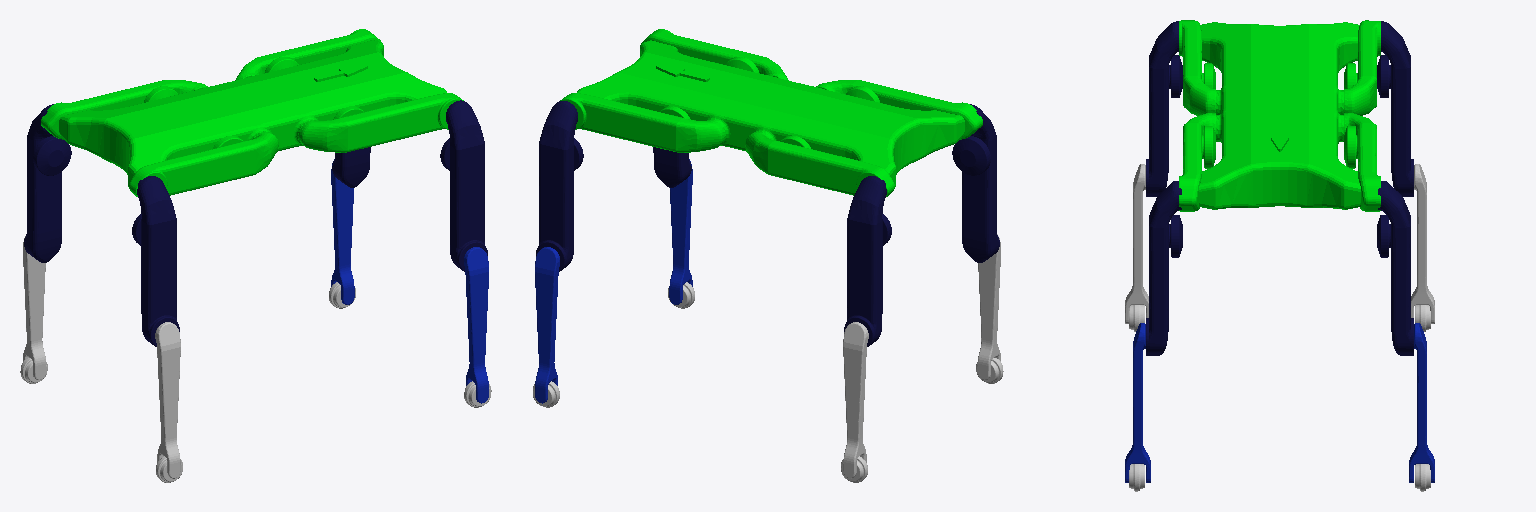
robot.urdf — solo:
<?xml version="1.0" ?>
<!-- =================================================================================== -->
<!-- |    This document was autogenerated by xacro from [local-path]/Documents/raisimLibSolo_workspace/robot_properties_solo/src/robot_properties_solo/resources/xacro/solo8.urdf.xacro | -->
<!-- |    EDITING THIS FILE BY HAND IS NOT RECOMMENDED                                 | -->
<!-- =================================================================================== -->
<robot name="solo" xmlns:controller="http://playerstage.sourceforge.net/gazebo/xmlschema/#controller" xmlns:interface="http://playerstage.sourceforge.net/gazebo/xmlschema/#interface" xmlns:sensor="http://playerstage.sourceforge.net/gazebo/xmlschema/#sensor" xmlns:xacro="http://playerstage.sourceforge.net/gazebo/xmlschema/#interface">
  <!-- This file is based on: https://atlas.is.localnet/confluence/display/AMDW/Quadruped+URDF+Files -->
  <link name="torso">
    <!-- BASE LINK INERTIAL -->
    <!-- body inertia updated according to 17.8.2022 PDF (yuni) -->
    <inertial>
      <origin rpy="0 0 0" xyz="-0.00012331 0.00031510 -0.00026969"/>
      <mass value="1.02195485"/>
      <inertia ixx="0.00533767" ixy="-0.00000516" ixz="0.00000122" iyy="0.01314118" iyz="0.00000061" izz="0.01821833"/>
    </inertial>
    <!-- BASE LINK VISUAL -->
    <visual>
      <origin rpy="0 0 0" xyz="0 0 0"/>
      <geometry>
        <mesh filename="./meshes/solo_body.dae"/>
      </geometry>
      <material name="ftorso_mat">
        <color rgba="0.0 0.9 0.1 1"/>
      </material>
    </visual>
    <!-- BASE LINK COLLISION -->
    <collision>
      <origin rpy="0 0 0" xyz="0 0 0"/>
      <geometry>
        <!-- body collision approximated as a box -->
        <box size="0.421 0.201 0.042"/>
      </geometry>
      <material name="grey">
        <color rgba="0.8 0.8 0.8 1.0"/>
      </material>
    </collision>
    <!-- Bullet specific paramters -->
  </link>
  <!-- END BASE LINK -->
  <!-- Joint between the base and the ${prefix} upper leg -->
  <joint name="FL_HFE" type="revolute">
    <parent link="torso"/>
    <child link="FL_UPPER_LEG"/>
    <limit effort="1.5" lower="-10" upper="10" velocity="15"/>
    <!-- joints rotates around the y-axis -->
    <axis xyz="0 1 0"/>
    <origin rpy="0 0 0" xyz="0.1946 0.1015 0"/>
    <!-- pybullet simulation parameters -->
    <!-- added rotor inertia as 81*0.00000447 (yuni) -->
    <dynamics damping="0.0" friction="0.0" rotor_inertia="0.00036207"/>
  </joint>
  <link name="FL_UPPER_LEG">
    <!-- Left upper leg inertia -->
    <inertial>
      <mass value="0.14737324"/>
      <origin rpy="0 0 0" xyz="0.00001530 0.01767640 -0.07838230"/>
      <inertia ixx="0.00041540" ixy="0.00000000" ixz="0.00000010" iyy="0.00041637" iyz="-0.00004589" izz="0.00002982"/>
    </inertial>
    <!-- UPPER LEG LINK VISUAL -->
    <visual>
      <origin rpy="0 0 0" xyz="0 0 0"/>
      <geometry>
        <mesh filename="./meshes/solo_upper_leg_left_side.dae"/>
      </geometry>
      <material name="fthigh_mat">
        <color rgba="0.1 0.1 0.3 1"/>
      </material>
    </visual>
    <!-- UPPER LEG LINK COLLISION -->
    <collision>
      <origin rpy="0 0 0" xyz="0 0.037450000000000004 -0.16"/>
      <geometry>
        <!-- sphere radius taken from shell radius in CAD files-->
        <sphere radius="0.0185"/>
      </geometry>
      <material name="grey">
        <color rgba="0.8 0.8 0.8 1.0"/>
      </material>
    </collision>
    <!-- Bullet specific paramters -->
  </link>
  <!-- END UPPER LEG LINK -->
  <!-- KFE: Joint between the upper leg and the lower leg -->
  <joint name="FL_KFE" type="revolute">
    <parent link="FL_UPPER_LEG"/>
    <child link="FL_LOWER_LEG"/>
    <limit effort="1.5" lower="-10" upper="10" velocity="15"/>
    <!-- joints rotates around the y-axis -->
    <axis xyz="0 1 0"/>
    <origin rpy="0 0 0" xyz="0 0.037450000000000004 -0.16"/>
    <!-- pybullet simulation parameters -->
    <!-- added rotor inertia as 81*0.00000447 (yuni) -->
    <dynamics damping="0.0" friction="0.0" rotor_inertia="0.00036207"/>
  </joint>
  <link name="FL_LOWER_LEG">
    <!-- Left lower leg inertia -->
    <inertial>
      <mass value="0.02318294"/>
      <origin rpy="0 0 0" xyz="0.00000000 0.00776716 -0.07003876"/>
      <inertia ixx="0.00008508" ixy="0.00000000" ixz="0.00000000" iyy="0.00008580" iyz="-0.00000200" izz="0.00000139"/>
    </inertial>
    <!-- LOWER LEG LINK VISUAL -->
    <visual>
      <origin rpy="0 0 0" xyz="0 0 0"/>
      <geometry>
        <mesh filename="./meshes/solo_lower_leg_left_side.dae"/>
      </geometry>
      <material name="fshin_mat">
        <color rgba="0.1 0.2 0.7 0.4"/>
      </material>
    </visual>
    <!-- LOWER LEG LINK COLLISION -->
    <!-- turn off lower leg link collision to instead have sphere at foot (yuni) -->
    <!-- Bullet specific paramters -->
  </link>
  <!-- END LOWER LEG LINK -->
  <!-- KFE: Joint between the upper leg and the lower leg -->
  <joint name="FL_ANKLE" type="fixed" dont_collapse="true">
    <parent link="FL_LOWER_LEG"/>
    <child link="FL_FOOT"/>
    <origin rpy="0 0 0" xyz="0 0.009000000000000001 -0.16"/>
    <!-- pybullet simulation parameters -->
    <dynamics damping="0.0" friction="0.0"/>
  </joint>
  <link name="FL_FOOT">
    <!-- FOOT INERTIAL -->
    <inertial>
      <origin rpy="0 0 0" xyz="0 0 0.00035767"/>
      <mass value="0.00693606"/>
      <inertia ixx="0.00000057" ixy="0.0" ixz="0.0" iyy="0.00000084" iyz="0.0" izz="0.00000053"/>
    </inertial>
    <!-- FOOT VISUAL -->
    <visual>
      <origin rpy="0 0 0" xyz="0 0 0"/>
      <geometry>
        <mesh filename="./meshes/solo_foot.dae"/>
      </geometry>
      <material name="grey">
        <color rgba="0.8 0.8 0.8 1.0"/>
      </material>
    </visual>
    <!-- FOOT COLLISION -->
    <!-- add collision in foot as a sphere (yuni) -->
    <collision>
      <origin rpy="0 0 0" xyz="0 0 0"/>
      <geometry>
        <!-- sphere radius taken from rubber radius in CAD files-->
        <sphere radius="0.0159"/>
      </geometry>
      <material name="grey">
        <color rgba="0.8 0.8 0.8 1.0"/>
      </material>
    </collision>
  </link>
  <!-- END FOOT LINK -->
  <!-- Joint between the base and the ${prefix} upper leg -->
  <joint name="FR_HFE" type="revolute">
    <parent link="torso"/>
    <child link="FR_UPPER_LEG"/>
    <limit effort="1.5" lower="-10" upper="10" velocity="15"/>
    <!-- joints rotates around the y-axis -->
    <axis xyz="0 1 0"/>
    <origin rpy="0 0 0" xyz="0.1946 -0.1015 0"/>
    <!-- pybullet simulation parameters -->
    <!-- added rotor inertia as 81*0.00000447 (yuni) -->
    <dynamics damping="0.0" friction="0.0" rotor_inertia="0.00036207"/>
  </joint>
  <link name="FR_UPPER_LEG">
    <!-- Right upper leg inertia -->
    <inertial>
      <mass value="0.14737324"/>
      <origin rpy="0 0 0" xyz="-0.00001530 -0.01767640 -0.07838230"/>
      <inertia ixx="0.00041540" ixy="0.00000000" ixz="-0.00000010" iyy="0.00041637" iyz="0.00004589" izz="0.00002982"/>
    </inertial>
    <!-- UPPER LEG LINK VISUAL -->
    <visual>
      <origin rpy="0 0 0" xyz="0 0 0"/>
      <geometry>
        <mesh filename="./meshes/solo_upper_leg_right_side.dae"/>
      </geometry>
      <material name="fthigh_mat">
        <color rgba="0.1 0.1 0.3 1"/>
      </material>
    </visual>
    <!-- UPPER LEG LINK COLLISION -->
    <collision>
      <origin rpy="0 0 0" xyz="0 -0.037450000000000004 -0.16"/>
      <geometry>
        <!-- sphere radius taken from shell radius in CAD files-->
        <sphere radius="0.0185"/>
      </geometry>
      <material name="grey">
        <color rgba="0.8 0.8 0.8 1.0"/>
      </material>
    </collision>
    <!-- Bullet specific paramters -->
  </link>
  <!-- END UPPER LEG LINK -->
  <!-- KFE: Joint between the upper leg and the lower leg -->
  <joint name="FR_KFE" type="revolute">
    <parent link="FR_UPPER_LEG"/>
    <child link="FR_LOWER_LEG"/>
    <limit effort="1.5" lower="-10" upper="10" velocity="15"/>
    <!-- joints rotates around the y-axis -->
    <axis xyz="0 1 0"/>
    <origin rpy="0 0 0" xyz="0 -0.037450000000000004 -0.16"/>
    <!-- pybullet simulation parameters -->
    <!-- added rotor inertia as 81*0.00000447 (yuni) -->
    <dynamics damping="0.0" friction="0.0" rotor_inertia="0.00036207"/>
  </joint>
  <link name="FR_LOWER_LEG">
    <!-- Right lower leg inertia -->
    <inertial>
      <mass value="0.02318294"/>
      <origin rpy="0 0 0" xyz="0.00000000 -0.00776716 -0.07003876"/>
      <inertia ixx="0.00008508" ixy="0.00000000" ixz="0.00000000" iyy="0.00008580" iyz="0.00000200" izz="0.00000139"/>
    </inertial>
    <!-- LOWER LEG LINK VISUAL -->
    <visual>
      <origin rpy="0 0 0" xyz="0 0 0"/>
      <geometry>
        <mesh filename="./meshes/solo_lower_leg_right_side.dae"/>
      </geometry>
      <material name="fshin_mat">
        <color rgba="0.1 0.2 0.7 0.4"/>
      </material>
    </visual>
    <!-- LOWER LEG LINK COLLISION -->
    <!-- turn off lower leg link collision to instead have sphere at foot (yuni) -->
    <!-- Bullet specific paramters -->
  </link>
  <!-- END LOWER LEG LINK -->
  <!-- KFE: Joint between the upper leg and the lower leg -->
  <joint name="FR_ANKLE" type="fixed" dont_collapse="true">
    <parent link="FR_LOWER_LEG"/>
    <child link="FR_FOOT"/>
    <origin rpy="0 0 0" xyz="0 -0.009000000000000001 -0.16"/>
    <!-- pybullet simulation parameters -->
    <dynamics damping="0.0" friction="0.0"/>
  </joint>
  <link name="FR_FOOT">
    <!-- FOOT INERTIAL -->
    <inertial>
      <origin rpy="0 0 0" xyz="0 0 0.00035767"/>
      <mass value="0.00693606"/>
      <inertia ixx="0.00000057" ixy="0.0" ixz="0.0" iyy="0.00000084" iyz="0.0" izz="0.00000053"/>
    </inertial>
    <!-- FOOT VISUAL -->
    <visual>
      <origin rpy="0 0 0" xyz="0 0 0"/>
      <geometry>
        <mesh filename="./meshes/solo_foot.dae"/>
      </geometry>
      <material name="grey">
        <color rgba="0.8 0.8 0.8 1.0"/>
      </material>
    </visual>
    <!-- FOOT COLLISION -->
    <!-- add collision in foot as a sphere (yuni) -->
    <collision>
      <origin rpy="0 0 0" xyz="0 0 0"/>
      <geometry>
        <!-- sphere radius taken from rubber radius in CAD files-->
        <sphere radius="0.0159"/>
      </geometry>
      <material name="grey">
        <color rgba="0.8 0.8 0.8 1.0"/>
      </material>
    </collision>
  </link>
  <!-- END FOOT LINK -->
  <!-- Joint between the base and the ${prefix} upper leg -->
  <joint name="HL_HFE" type="revolute">
    <parent link="torso"/>
    <child link="HL_UPPER_LEG"/>
    <limit effort="1.5" lower="-10" upper="10" velocity="15"/>
    <!-- joints rotates around the y-axis -->
    <axis xyz="0 1 0"/>
    <origin rpy="0 0 0" xyz="-0.1946 0.1015 0"/>
    <!-- pybullet simulation parameters -->
    <!-- added rotor inertia as 81*0.00000447 (yuni) -->
    <dynamics damping="0.0" friction="0.0" rotor_inertia="0.00036207"/>
  </joint>
  <link name="HL_UPPER_LEG">
    <!-- Left upper leg inertia -->
    <inertial>
      <mass value="0.14737324"/>
      <origin rpy="0 0 0" xyz="0.00001530 0.01767640 -0.07838230"/>
      <inertia ixx="0.00041540" ixy="0.00000000" ixz="0.00000010" iyy="0.00041637" iyz="-0.00004589" izz="0.00002982"/>
    </inertial>
    <!-- UPPER LEG LINK VISUAL -->
    <visual>
      <origin rpy="0 0 0" xyz="0 0 0"/>
      <geometry>
        <mesh filename="./meshes/solo_upper_leg_left_side.dae"/>
      </geometry>
      <material name="bthigh_mat">
        <color rgba="0.1 0.1 0.3 1"/>
      </material>
    </visual>
    <!-- UPPER LEG LINK COLLISION -->
    <collision>
      <origin rpy="0 0 0" xyz="0 0.037450000000000004 -0.16"/>
      <geometry>
        <!-- sphere radius taken from shell radius in CAD files-->
        <sphere radius="0.0185"/>
      </geometry>
      <material name="grey">
        <color rgba="0.8 0.8 0.8 1.0"/>
      </material>
    </collision>
    <!-- Bullet specific paramters -->
  </link>
  <!-- END UPPER LEG LINK -->
  <!-- KFE: Joint between the upper leg and the lower leg -->
  <joint name="HL_KFE" type="revolute">
    <parent link="HL_UPPER_LEG"/>
    <child link="HL_LOWER_LEG"/>
    <limit effort="1.5" lower="-10" upper="10" velocity="15"/>
    <!-- joints rotates around the y-axis -->
    <axis xyz="0 1 0"/>
    <origin rpy="0 0 0" xyz="0 0.037450000000000004 -0.16"/>
    <!-- pybullet simulation parameters -->
    <!-- added rotor inertia as 81*0.00000447 (yuni) -->
    <dynamics damping="0.0" friction="0.0" rotor_inertia="0.00036207"/>
  </joint>
  <link name="HL_LOWER_LEG">
    <!-- Left lower leg inertia -->
    <inertial>
      <mass value="0.02318294"/>
      <origin rpy="0 0 0" xyz="0.00000000 0.00776716 -0.07003876"/>
      <inertia ixx="0.00008508" ixy="0.00000000" ixz="0.00000000" iyy="0.00008580" iyz="-0.00000200" izz="0.00000139"/>
    </inertial>
    <!-- LOWER LEG LINK VISUAL -->
    <visual>
      <origin rpy="0 0 0" xyz="0 0 0"/>
      <geometry>
        <mesh filename="./meshes/solo_lower_leg_left_side.dae"/>
      </geometry>
      <material name="grey">
        <color rgba="0.8 0.8 0.8 1.0"/>
      </material>
    </visual>
    <!-- LOWER LEG LINK COLLISION -->
    <!-- turn off lower leg link collision to instead have sphere at foot (yuni) -->
    <!-- Bullet specific paramters -->
  </link>
  <!-- END LOWER LEG LINK -->
  <!-- KFE: Joint between the upper leg and the lower leg -->
  <joint name="HL_ANKLE" type="fixed" dont_collapse="true">
    <parent link="HL_LOWER_LEG"/>
    <child link="HL_FOOT"/>
    <origin rpy="0 0 0" xyz="0 0.009000000000000001 -0.16"/>
    <!-- pybullet simulation parameters -->
    <dynamics damping="0.0" friction="0.0"/>
  </joint>
  <link name="HL_FOOT">
    <!-- FOOT INERTIAL -->
    <inertial>
      <origin rpy="0 0 0" xyz="0 0 0.00035767"/>
      <mass value="0.00693606"/>
      <inertia ixx="0.00000057" ixy="0.0" ixz="0.0" iyy="0.00000084" iyz="0.0" izz="0.00000053"/>
    </inertial>    
    <!-- FOOT VISUAL -->
    <visual>
      <origin rpy="0 0 0" xyz="0 0 0"/>
      <geometry>
        <mesh filename="./meshes/solo_foot.dae"/>
      </geometry>
      <material name="grey">
        <color rgba="0.8 0.8 0.8 1.0"/>
      </material>
    </visual>
    <!-- FOOT COLLISION -->
    <!-- add collision in foot as a sphere (yuni) -->
    <collision>
      <origin rpy="0 0 0" xyz="0 0 0"/>
      <geometry>
        <!-- sphere radius taken from rubber radius in CAD files-->
        <sphere radius="0.0159"/>
      </geometry>
      <material name="grey">
        <color rgba="0.8 0.8 0.8 1.0"/>
      </material>
    </collision>
  </link>
  <!-- END FOOT LINK -->
  <!-- Joint between the base and the ${prefix} upper leg -->
  <joint name="HR_HFE" type="revolute">
    <parent link="torso"/>
    <child link="HR_UPPER_LEG"/>
    <limit effort="1.5" lower="-10" upper="10" velocity="15"/>
    <!-- joints rotates around the y-axis -->
    <axis xyz="0 1 0"/>
    <origin rpy="0 0 0" xyz="-0.1946 -0.1015 0"/>
    <!-- pybullet simulation parameters -->
    <!-- added rotor inertia as 81*0.00000447 (yuni) -->
    <dynamics damping="0.0" friction="0.0" rotor_inertia="0.00036207"/>
  </joint>
  <link name="HR_UPPER_LEG">
    <!-- Right upper leg inertia -->
    <inertial>
      <mass value="0.14737324"/>
      <origin rpy="0 0 0" xyz="-0.00001530 -0.01767640 -0.07838230"/>
      <inertia ixx="0.00041540" ixy="0.00000000" ixz="-0.00000010" iyy="0.00041637" iyz="0.00004589" izz="0.00002982"/>
    </inertial>
    <!-- UPPER LEG LINK VISUAL -->
    <visual>
      <origin rpy="0 0 0" xyz="0 0 0"/>
      <geometry>
        <mesh filename="./meshes/solo_upper_leg_right_side.dae"/>
      </geometry>
      <material name="bthigh_mat">
        <color rgba="0.1 0.1 0.3 1"/>
      </material>
    </visual>
    <!-- UPPER LEG LINK COLLISION -->
    <collision>
      <origin rpy="0 0 0" xyz="0 -0.037450000000000004 -0.16"/>
      <geometry>
        <!-- sphere radius taken from shell radius in CAD files-->
        <sphere radius="0.0185"/>
      </geometry>
      <material name="grey">
        <color rgba="0.8 0.8 0.8 1.0"/>
      </material>
    </collision>
    <!-- Bullet specific paramters -->
  </link>
  <!-- END UPPER LEG LINK -->
  <!-- KFE: Joint between the upper leg and the lower leg -->
  <joint name="HR_KFE" type="revolute">
    <parent link="HR_UPPER_LEG"/>
    <child link="HR_LOWER_LEG"/>
    <limit effort="1.5" lower="-10" upper="10" velocity="15"/>
    <!-- joints rotates around the y-axis -->
    <axis xyz="0 1 0"/>
    <origin rpy="0 0 0" xyz="0 -0.037450000000000004 -0.16"/>
    <!-- pybullet simulation parameters -->
    <!-- added rotor inertia as 81*0.00000447 (yuni) -->
    <dynamics damping="0.0" friction="0.0" rotor_inertia="0.00036207"/>
  </joint>
  <link name="HR_LOWER_LEG">
    <!-- Right lower leg inertia -->
    <inertial>
      <mass value="0.02318294"/>
      <origin rpy="0 0 0" xyz="0.00000000 -0.00776716 -0.07003876"/>
      <inertia ixx="0.00008508" ixy="0.00000000" ixz="0.00000000" iyy="0.00008580" iyz="0.00000200" izz="0.00000139"/>
    </inertial>
    <!-- LOWER LEG LINK VISUAL -->
    <visual>
      <origin rpy="0 0 0" xyz="0 0 0"/>
      <geometry>
        <mesh filename="./meshes/solo_lower_leg_right_side.dae"/>
      </geometry>
      <material name="grey">
        <color rgba="0.8 0.8 0.8 1.0"/>
      </material>
    </visual>
    <!-- LOWER LEG LINK COLLISION -->
    <!-- turn off lower leg link collision to instead have sphere at foot (yuni) -->
    <!-- Bullet specific paramters -->
  </link>
  <!-- END LOWER LEG LINK -->
  <!-- KFE: Joint between the upper leg and the lower leg -->
  <joint name="HR_ANKLE" type="fixed" dont_collapse="true">
    <parent link="HR_LOWER_LEG"/>
    <child link="HR_FOOT"/>
    <origin rpy="0 0 0" xyz="0 -0.009000000000000001 -0.16"/>
    <!-- pybullet simulation parameters -->
    <dynamics damping="0.0" friction="0.0"/>
  </joint>
  <link name="HR_FOOT">
    <!-- FOOT INERTIAL -->
    <inertial>
      <origin rpy="0 0 0" xyz="0 0 0.00035767"/>
      <mass value="0.00693606"/>
      <inertia ixx="0.00000057" ixy="0.0" ixz="0.0" iyy="0.00000084" iyz="0.0" izz="0.00000053"/>
    </inertial>
    <!-- FOOT VISUAL -->
    <visual>
      <origin rpy="0 0 0" xyz="0 0 0"/>
      <geometry>
        <mesh filename="./meshes/solo_foot.dae"/>
      </geometry>
      <material name="grey">
        <color rgba="0.8 0.8 0.8 1.0"/>
      </material>
    </visual>
    <!-- add collision in foot as a sphere (yuni) -->
    <!-- FOOT COLLISION -->
    <collision>
      <origin rpy="0 0 0" xyz="0 0 0"/>
      <geometry>
        <!-- sphere radius taken from rubber radius in CAD files-->
        <sphere radius="0.0159"/>
      </geometry>
      <material name="grey">
        <color rgba="0.8 0.8 0.8 1.0"/>
      </material>
    </collision>
  </link>
  <!-- END FOOT LINK -->
</robot>

--- What the picture shows (computed from the rendered views, not written in the file) ---
The picture shows the robot from 3 angles, left to right: view 1: azimuth 30°, elevation 25°; view 2: azimuth 150°, elevation 25°; view 3: azimuth 270°, elevation 25°; orthographic projection.
Robot: solo — 13 links, 12 joints (8 revolute, 4 fixed); root link torso; default pose: all joints at 0.
Links seen in each view (by area): view 1: torso, HR_UPPER_LEG, FR_UPPER_LEG, HL_UPPER_LEG, HR_LOWER_LEG, FR_LOWER_LEG, FL_LOWER_LEG, HL_LOWER_LEG, FL_UPPER_LEG; view 2: torso, HL_UPPER_LEG, FL_UPPER_LEG, HR_UPPER_LEG, HL_LOWER_LEG, FL_LOWER_LEG, FR_LOWER_LEG, HR_LOWER_LEG, FR_UPPER_LEG; view 3: torso, FL_UPPER_LEG, FR_UPPER_LEG, HL_UPPER_LEG, HR_UPPER_LEG, FL_LOWER_LEG, FR_LOWER_LEG, HL_LOWER_LEG, HR_LOWER_LEG.
Boxes of the visible links, x1,y1,x2,y2 form: torso: [41, 29, 463, 196]; HR_UPPER_LEG: [132, 176, 179, 346]; FR_UPPER_LEG: [440, 100, 487, 271]; HL_UPPER_LEG: [24, 104, 71, 262]; HR_LOWER_LEG: [155, 322, 180, 478]; FR_LOWER_LEG: [464, 247, 488, 403]; FL_LOWER_LEG: [331, 159, 354, 304]; HL_LOWER_LEG: [23, 236, 45, 379]; FL_UPPER_LEG: [332, 147, 370, 187]; torso: [560, 29, 982, 196]; HL_UPPER_LEG: [844, 176, 891, 346]; FL_UPPER_LEG: [536, 101, 583, 271]; HR_UPPER_LEG: [952, 104, 999, 262]; HL_LOWER_LEG: [843, 322, 868, 478]; FL_LOWER_LEG: [535, 247, 559, 403]; FR_LOWER_LEG: [669, 159, 692, 304]; HR_LOWER_LEG: [978, 234, 1000, 379]; FR_UPPER_LEG: [653, 147, 691, 187]; torso: [1179, 20, 1380, 211]; FL_UPPER_LEG: [1377, 181, 1413, 355]; FR_UPPER_LEG: [1146, 181, 1182, 355]; HL_UPPER_LEG: [1377, 21, 1413, 196]; HR_UPPER_LEG: [1146, 21, 1182, 196]; FL_LOWER_LEG: [1409, 323, 1434, 482]; FR_LOWER_LEG: [1125, 323, 1150, 482]; HL_LOWER_LEG: [1411, 164, 1434, 323]; HR_LOWER_LEG: [1125, 164, 1148, 323].
Bounding box of the posed robot: 0.4336 × 0.3208 × 0.364 m (x, y, z).
Meshes: 6 distinct files referenced, 13 mesh visuals loaded (6 Collada DAE).
